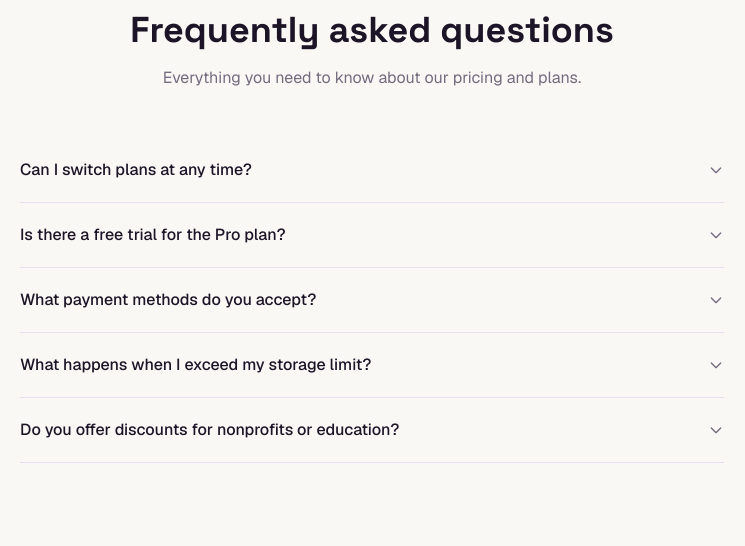
Test: PricingFaq › shows answer when question is clicked
Click the button "Can I switch plans at any time?".
click(136, 170)  # box [20, 138, 724, 202]
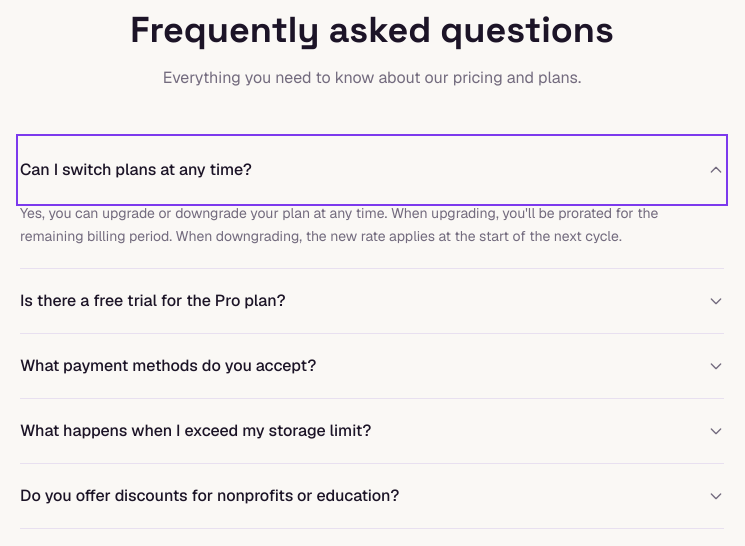
Expected: the text "you can upgrade or downgrade" is shown, [20, 204, 658, 245]
